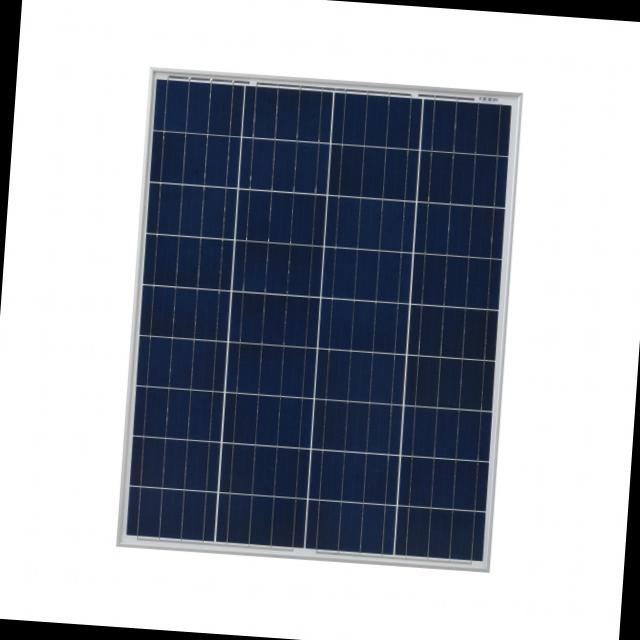no faulty: (128, 87, 507, 558)
